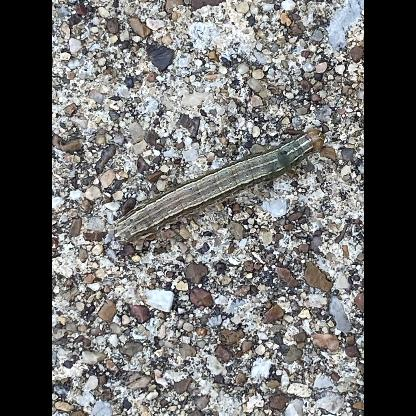Fall Armyworm Larvae: (110, 125, 328, 245)
